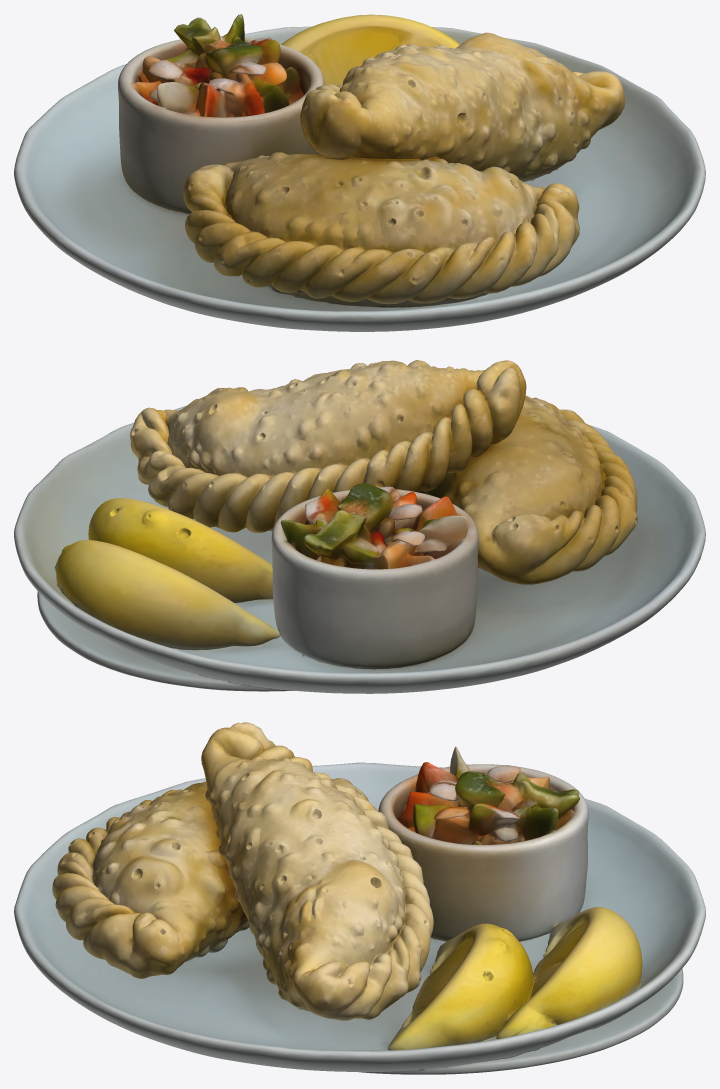
File: Empanadas.glb
3 views of the same model, one above another, from view 1: azimuth 30°, elevation 25°; view 2: azimuth 150°, elevation 25°; view 3: azimuth 270°, elevation 25° (orthographic).
Parts seen in each view (by area): view 1: tripo_node_870dfa8b-c37e-4f7e-9c66-d8f70ad9c823; view 2: tripo_node_870dfa8b-c37e-4f7e-9c66-d8f70ad9c823; view 3: tripo_node_870dfa8b-c37e-4f7e-9c66-d8f70ad9c823.
Part boxes in pixels (bbox=[...]): tripo_node_870dfa8b-c37e-4f7e-9c66-d8f70ad9c823: bbox=[14, 14, 705, 331]; tripo_node_870dfa8b-c37e-4f7e-9c66-d8f70ad9c823: bbox=[14, 360, 705, 693]; tripo_node_870dfa8b-c37e-4f7e-9c66-d8f70ad9c823: bbox=[14, 722, 705, 1074].
Bounding box in the file's own units: 0.204 × 0.0608 × 0.2038.
1 material, 1 textured.
